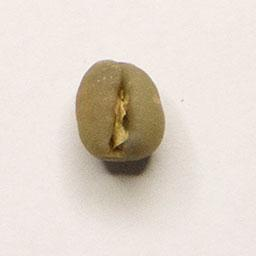peaberry: (72, 57, 169, 166)
